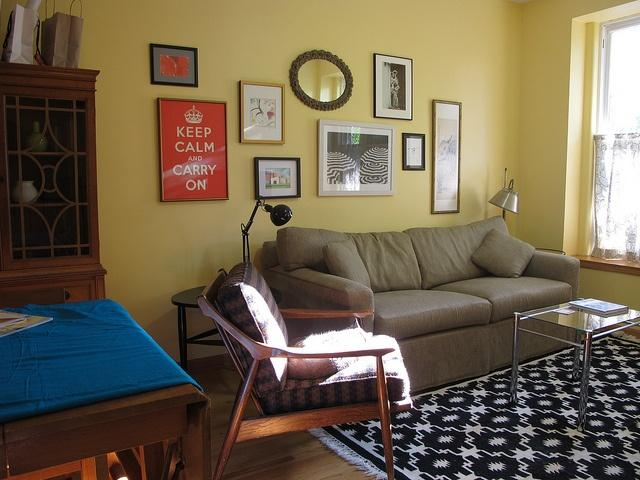Lemari: (0, 61, 107, 307)
